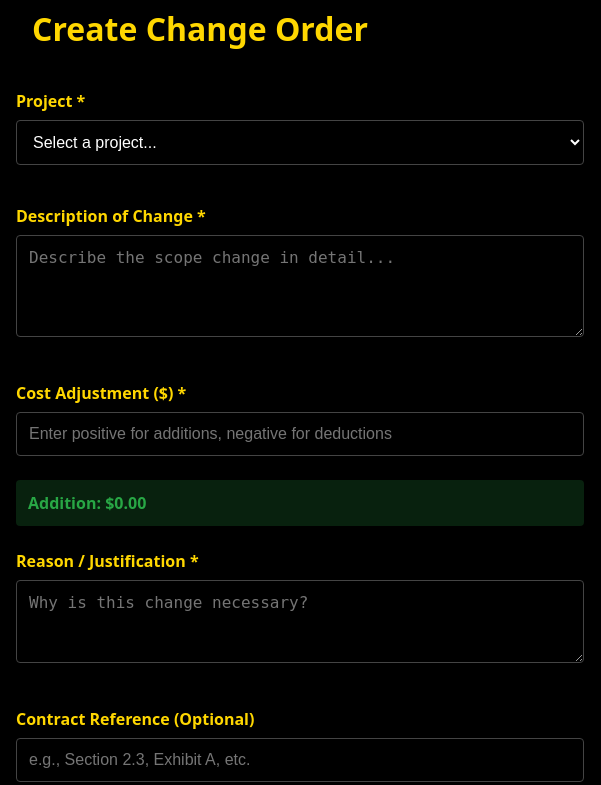
ChangeOrderForm › shows deduction indicator for negative cost
Type "-300" into the number field labelled "Cost Adjustment ($) *". click: [300, 434]
box: [16, 412, 584, 456]
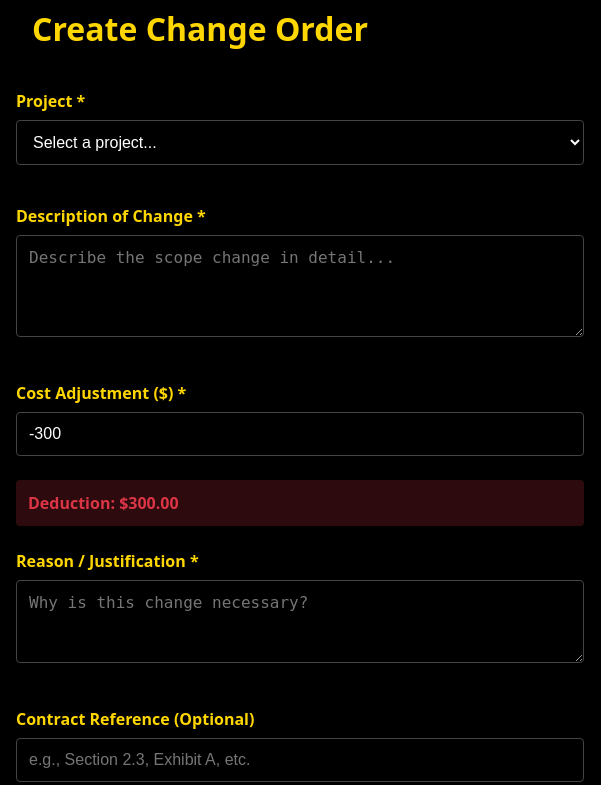
Result: the text "Deduction: $300.00" is shown at [16, 480, 584, 526]
